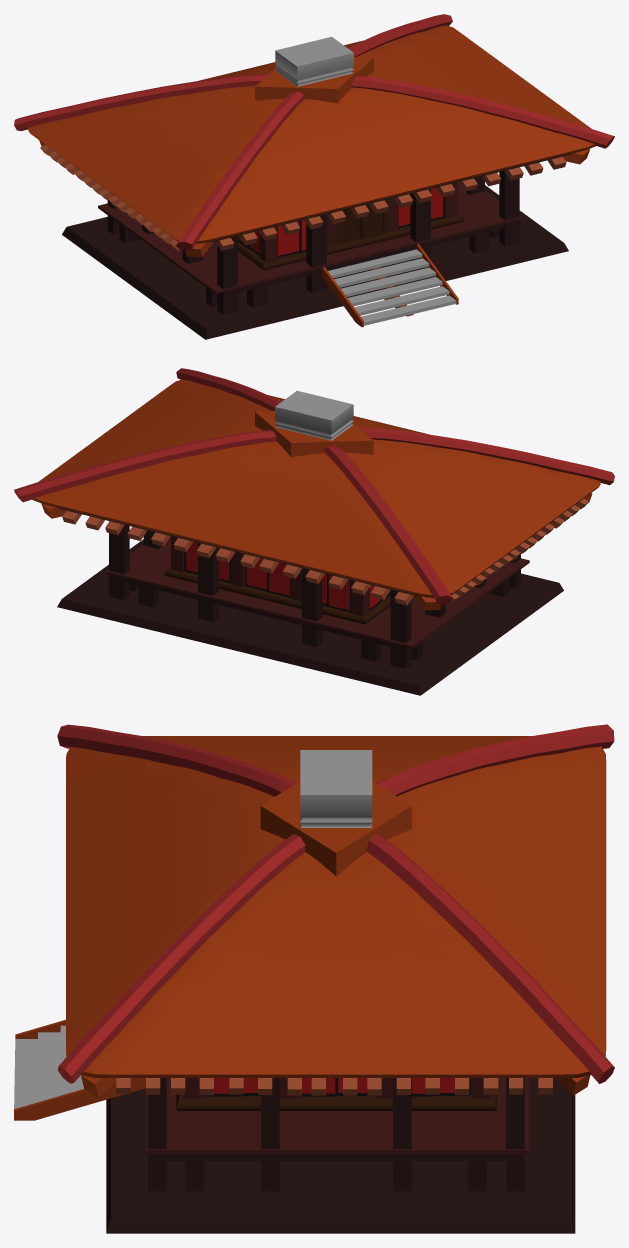
File: dojo.FBX
3 views of the same model, one above another, from view 1: azimuth 30°, elevation 25°; view 2: azimuth 150°, elevation 25°; view 3: azimuth 270°, elevation 25° (orthographic). The views are drawn at different scales.
Parts seen in each view (by area): view 1: Plane001; view 2: Plane001; view 3: Plane001.
Part boxes in pixels (box(x1,y1,x2,y2)): Plane001: box(14, 14, 614, 339); Plane001: box(14, 368, 614, 695); Plane001: box(14, 724, 614, 1233).
Bounding box in the file's own units: 311 × 132 × 226.
